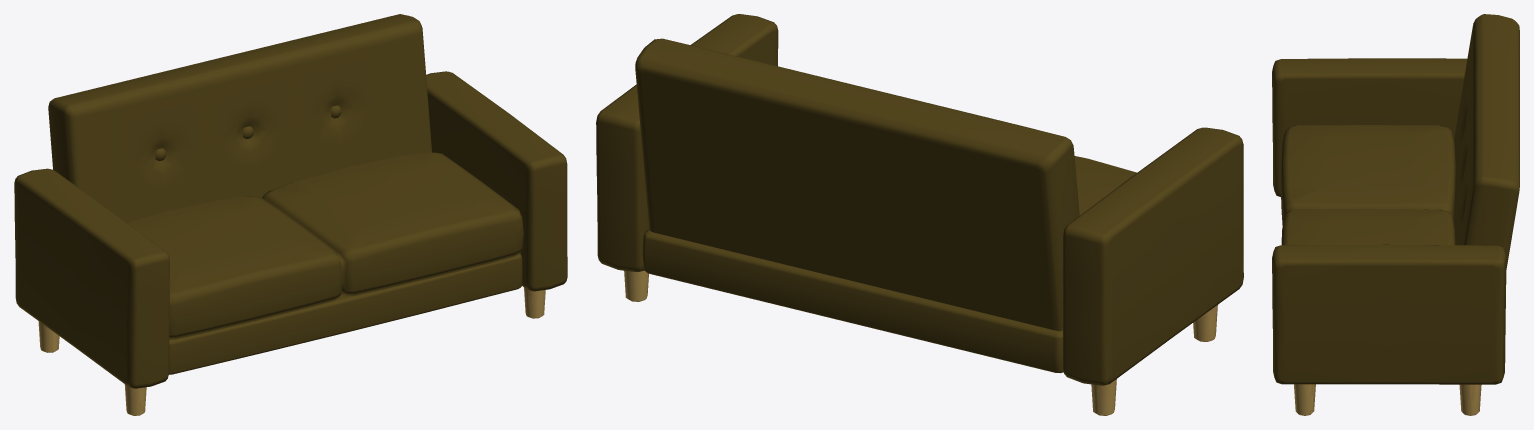
3 renders of one model, left to right at view 1: azimuth 30°, elevation 25°; view 2: azimuth 150°, elevation 25°; view 3: azimuth 270°, elevation 25°, orthographic. The views are drawn at different scales.
Size of the model in its own units: 18.51 by 9.44 by 9.44.
Materials: 2 (2 with a texture image).
